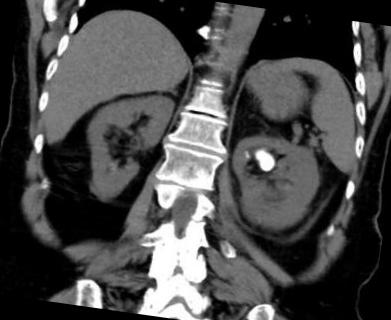Tas_Var: (253, 144, 276, 174), (244, 152, 251, 160), (242, 148, 250, 154)
